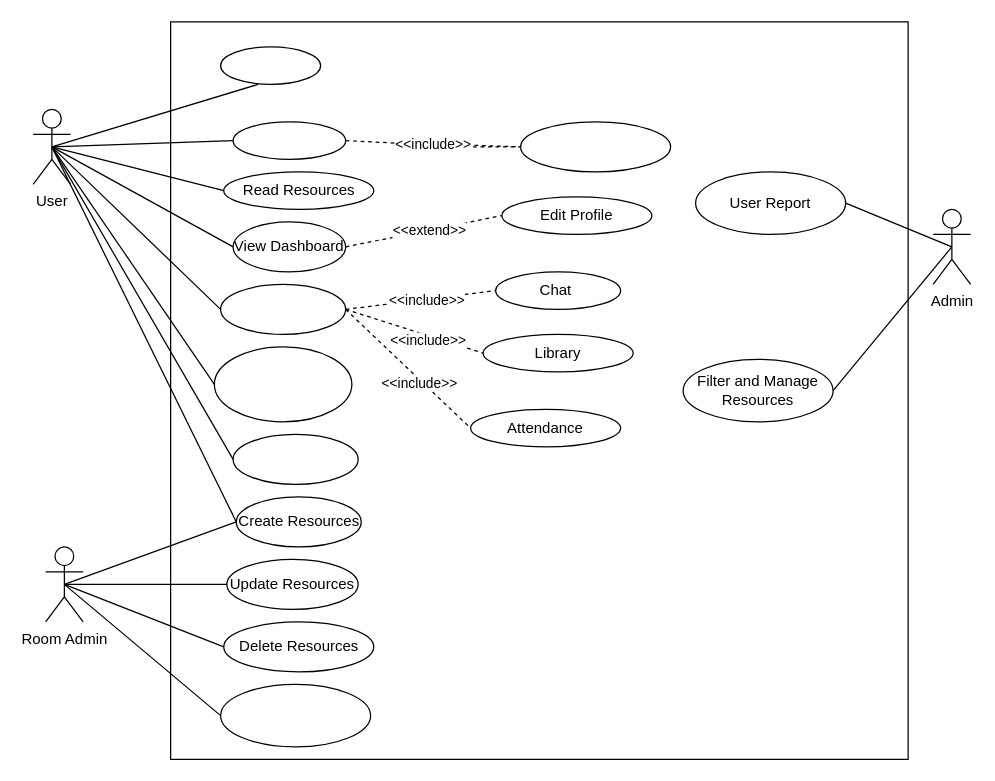
Image size: 995x781. Some labels were removed from this diagram. Each missing label, with the centre of its shape:
"Add/ Remove Members" goes at point (295, 715).
"Authentication" goes at point (595, 146).
"Create Rooms Public/Private" goes at point (282, 308).
"Join/Leave Room" goes at point (295, 458).
"Login/Logout" goes at point (289, 140).
"Search/ View trending Public rooms" goes at point (282, 384).
"SignUp" goes at point (270, 65).
